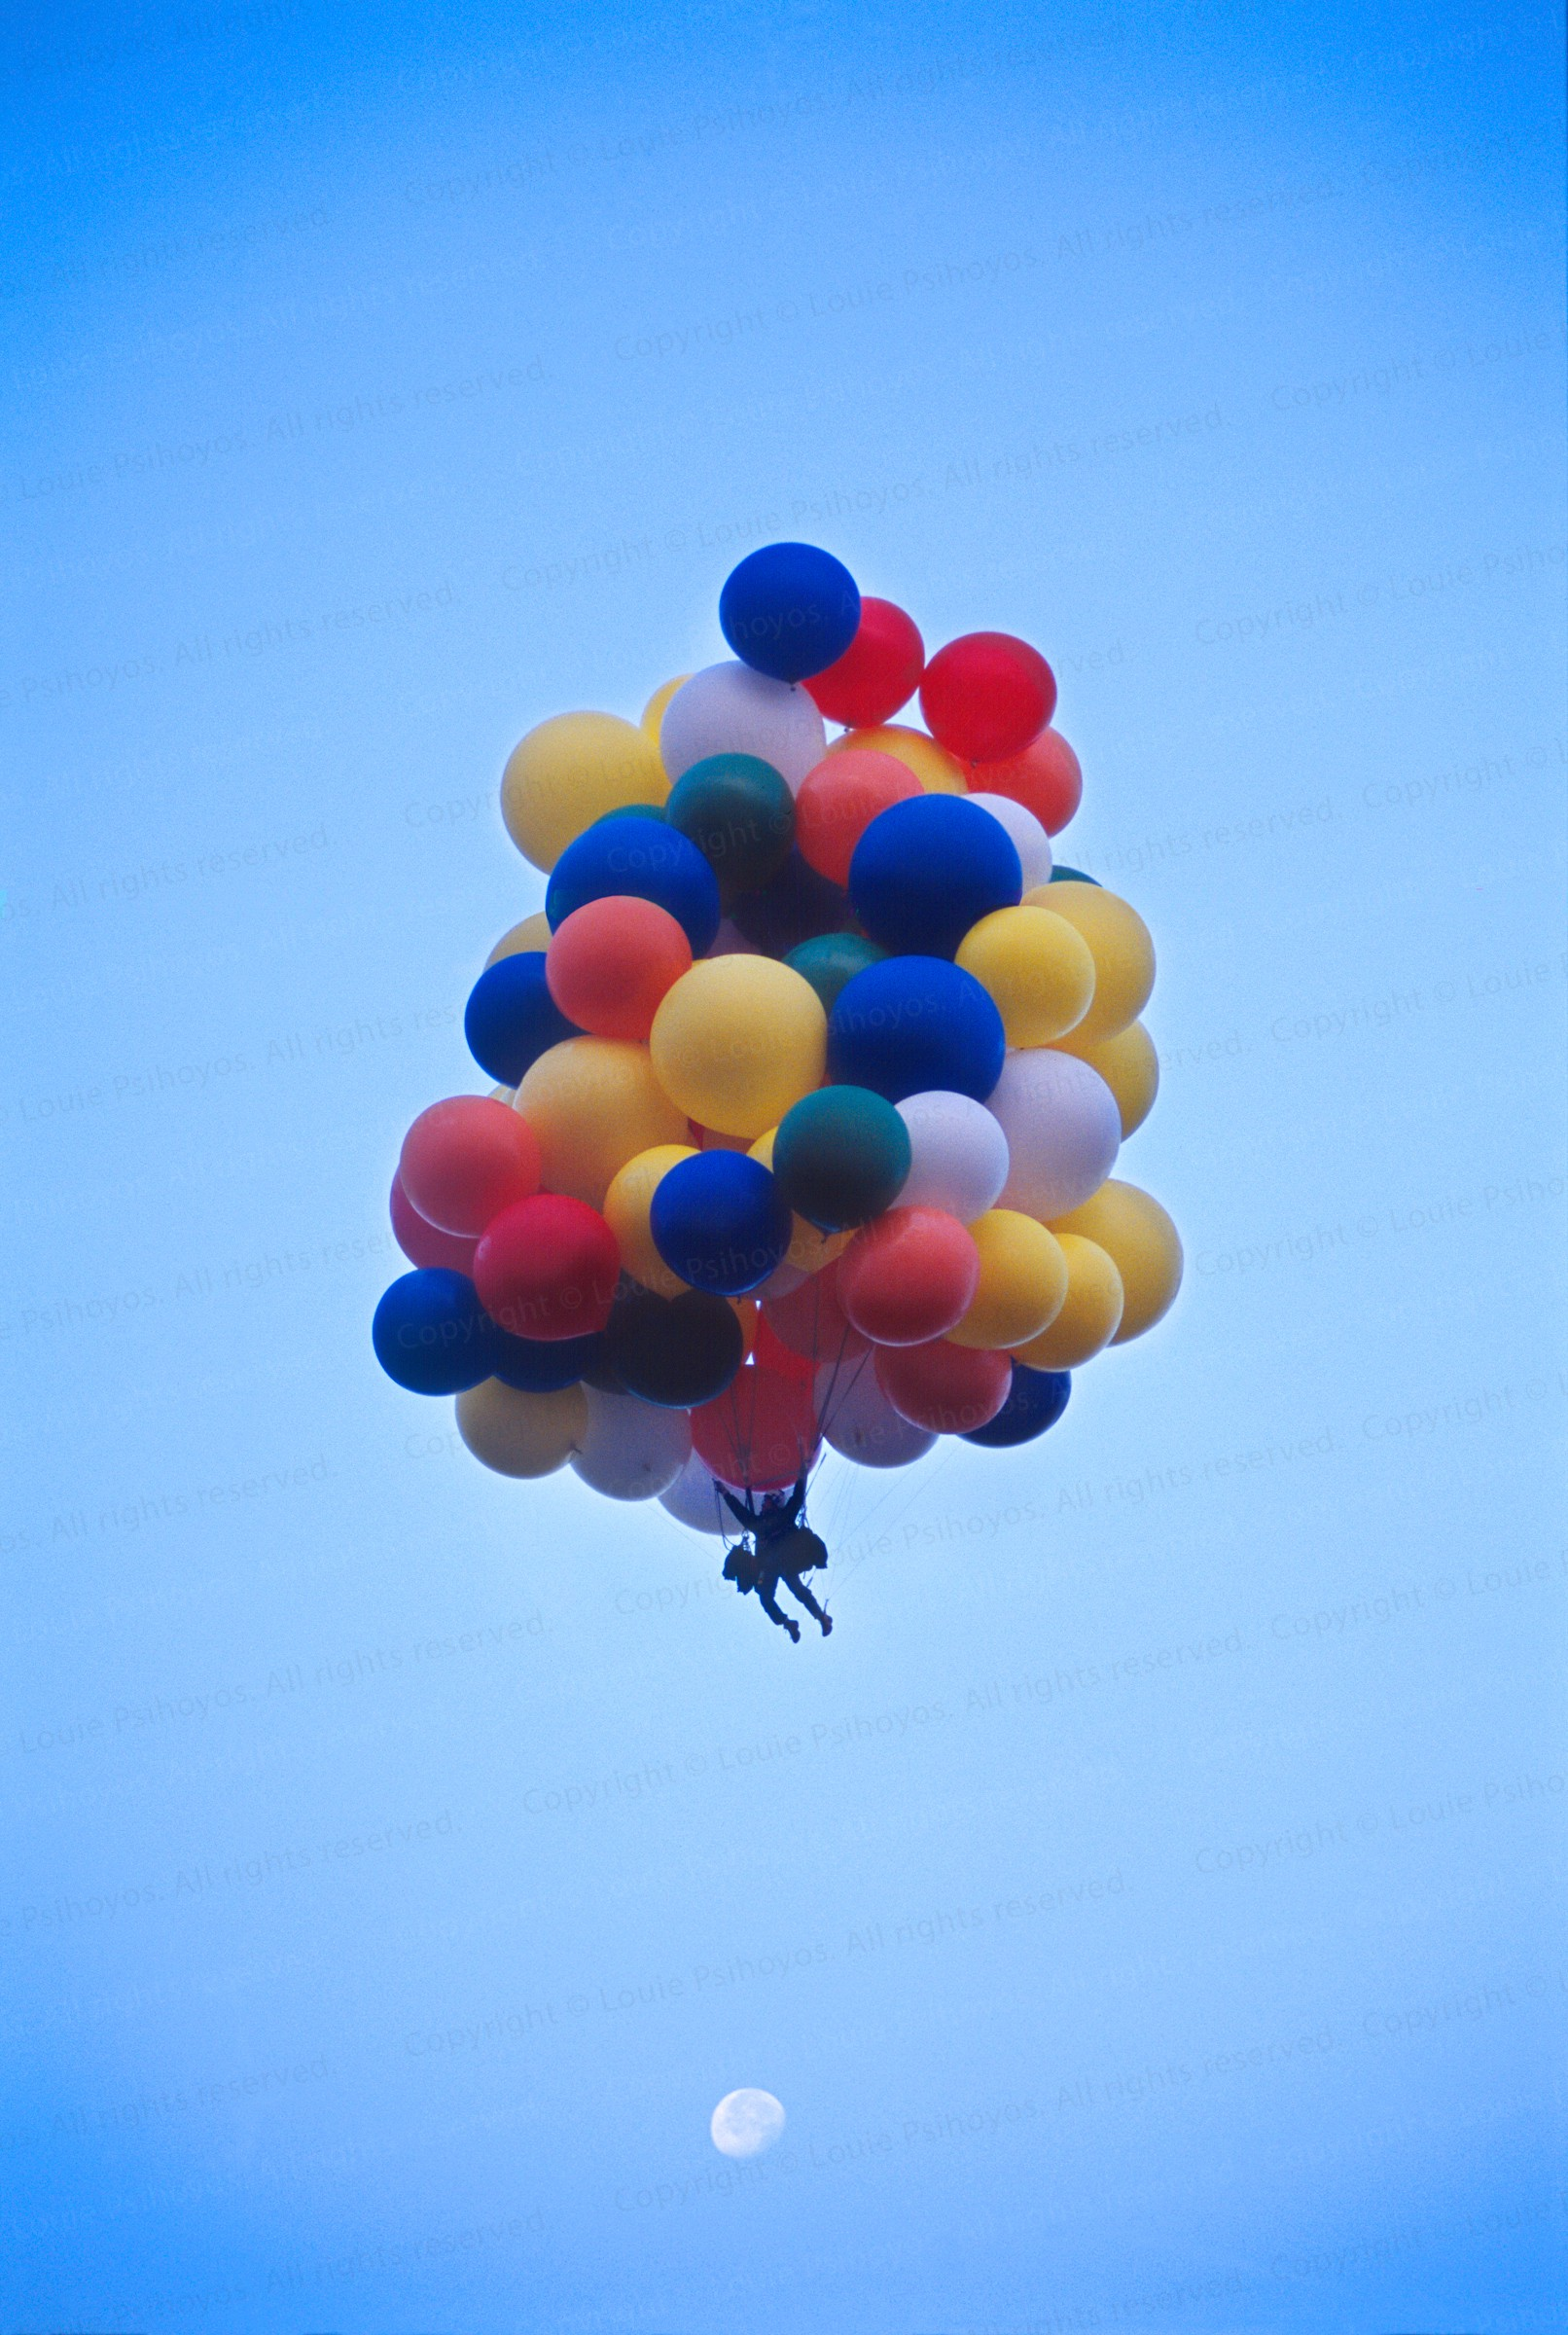Balloon: (649, 954, 828, 1139), (849, 795, 1022, 954), (500, 711, 668, 873), (831, 954, 1004, 1104), (989, 1048, 1120, 1220), (474, 1194, 619, 1339), (649, 1148, 793, 1295), (544, 896, 691, 1038), (399, 1096, 546, 1236), (772, 1085, 912, 1231), (719, 543, 861, 683), (840, 1204, 975, 1341), (920, 632, 1057, 761), (668, 753, 794, 887), (373, 1266, 497, 1397), (609, 1294, 744, 1406), (693, 1367, 819, 1484)
